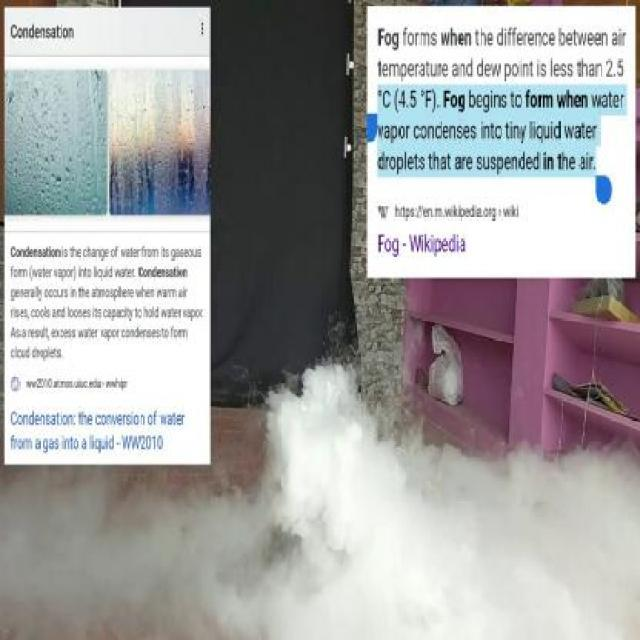smoke: (260, 358, 640, 639), (1, 472, 274, 640)
